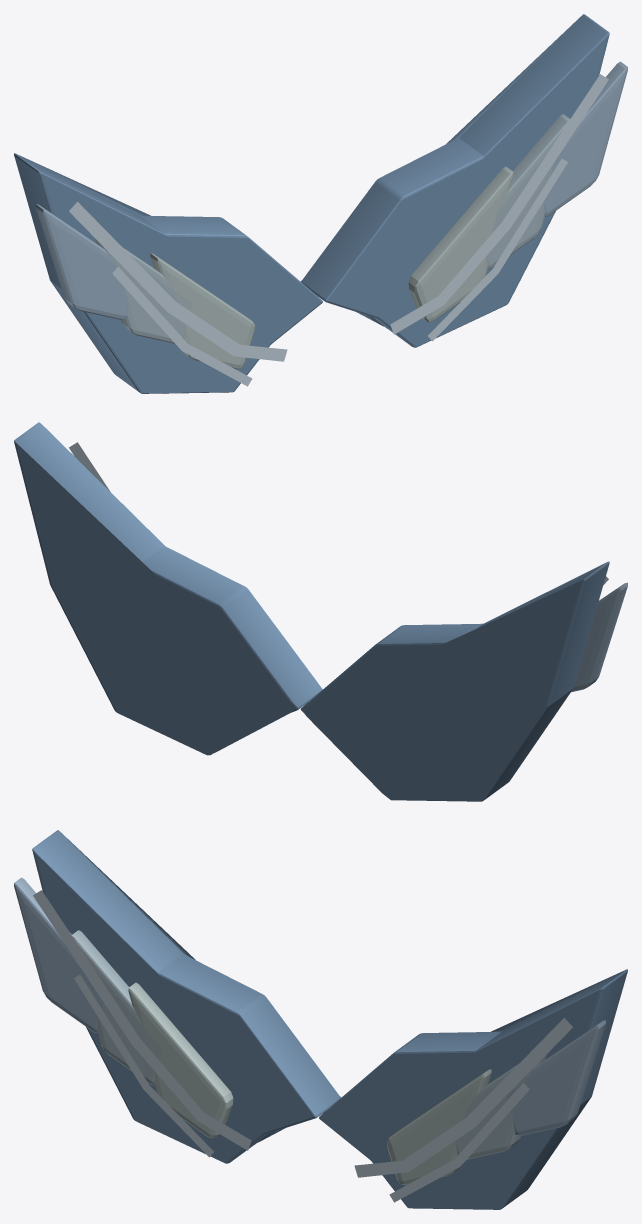
The model's file is Eula_LightfallSwordState_Multiple_LightfallWings.fbx.
The picture shows the model from 3 angles, top to bottom: view 1: azimuth 30°, elevation 25°; view 2: azimuth 150°, elevation 25°; view 3: azimuth 330°, elevation 25°; orthographic projection.
Visible parts, largest first — view 1: PART_SweptWingGuard_1, PART_SweptWingGuard_-1, PART_GuardLayeredFeather_1_0, PART_GuardLayeredFeather_-1_2, PART_GuardLayeredFeather_1_2, PART_GuardLayeredFeather_-1_0, PART_WhiteGoldWingEdge_1, PART_WhiteGoldWingEdge_-1, PART_GuardLayeredFeather_1_1, PART_GuardLayeredFeather_-1_1, PART_WingFeatherInset_1, PART_WingFeatherInset_-1; view 2: PART_SweptWingGuard_1, PART_SweptWingGuard_-1, PART_GuardLayeredFeather_-1_2; view 3: PART_SweptWingGuard_-1, PART_SweptWingGuard_1, PART_GuardLayeredFeather_-1_0, PART_GuardLayeredFeather_1_2, PART_GuardLayeredFeather_-1_2, PART_GuardLayeredFeather_1_0, PART_WhiteGoldWingEdge_-1, PART_WhiteGoldWingEdge_1, PART_GuardLayeredFeather_-1_1, PART_GuardLayeredFeather_1_1, PART_WingFeatherInset_-1, PART_WingFeatherInset_1.
Boxes of the visible parts, x1,y1,x2,y2 form: PART_SweptWingGuard_1: (300,14,609,347); PART_SweptWingGuard_-1: (14,153,322,393); PART_GuardLayeredFeather_1_0: (408,166,513,322); PART_GuardLayeredFeather_-1_2: (36,204,134,320); PART_GuardLayeredFeather_1_2: (543,61,627,216); PART_GuardLayeredFeather_-1_0: (150,253,255,369); PART_WhiteGoldWingEdge_1: (390,74,608,334); PART_WhiteGoldWingEdge_-1: (69,201,287,361); PART_GuardLayeredFeather_1_1: (486,114,570,269); PART_GuardLayeredFeather_-1_1: (95,238,193,343); PART_WingFeatherInset_1: (428,159,567,341); PART_WingFeatherInset_-1: (112,267,252,386); PART_SweptWingGuard_1: (14,422,322,755); PART_SweptWingGuard_-1: (300,561,609,801); PART_GuardLayeredFeather_-1_2: (571,582,627,692); PART_SweptWingGuard_-1: (32,830,341,1163); PART_SweptWingGuard_1: (319,969,627,1209); PART_GuardLayeredFeather_-1_0: (128,982,233,1138); PART_GuardLayeredFeather_1_2: (506,1020,605,1136); PART_GuardLayeredFeather_-1_2: (14,877,103,1032); PART_GuardLayeredFeather_1_0: (386,1069,491,1185); PART_WhiteGoldWingEdge_-1: (33,890,251,1150); PART_WhiteGoldWingEdge_1: (354,1017,572,1177); PART_GuardLayeredFeather_-1_1: (71,930,162,1085); PART_GuardLayeredFeather_1_1: (449,1054,546,1159); PART_WingFeatherInset_-1: (74,975,213,1157); PART_WingFeatherInset_1: (389,1083,529,1202).
Size of the model in its own units: 143 by 62.59 by 17.5.
